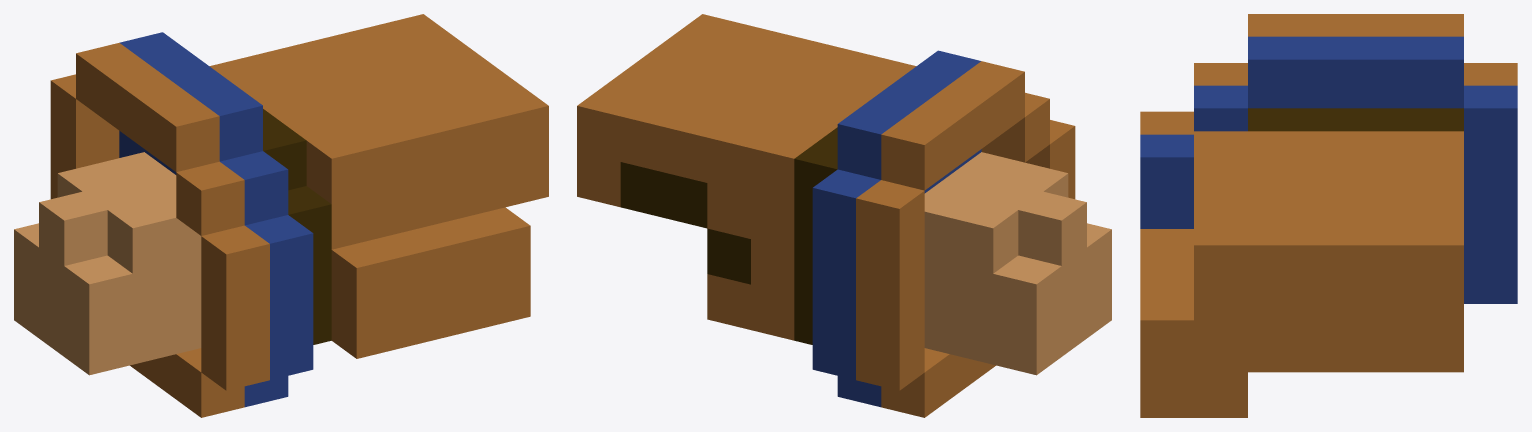
File: FKnightArmLowerL.fbx
3 views of the same model, side by side, from view 1: azimuth 30°, elevation 25°; view 2: azimuth 150°, elevation 25°; view 3: azimuth 270°, elevation 25° (orthographic). The views are drawn at different scales.
Parts seen in each view (by area): view 1: FemKnightArms_part_2; view 2: FemKnightArms_part_2; view 3: FemKnightArms_part_2.
Part boxes in pixels (x1,y1,x2,y2): FemKnightArms_part_2: [14, 14, 548, 417]; FemKnightArms_part_2: [577, 14, 1111, 417]; FemKnightArms_part_2: [1140, 14, 1517, 417].
Size of the model in its own units: 10 by 6 by 7.
1 material, 1 textured.
